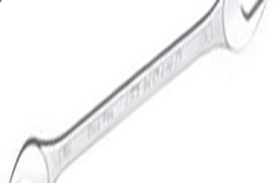Wrench: (12, 1, 266, 183)
